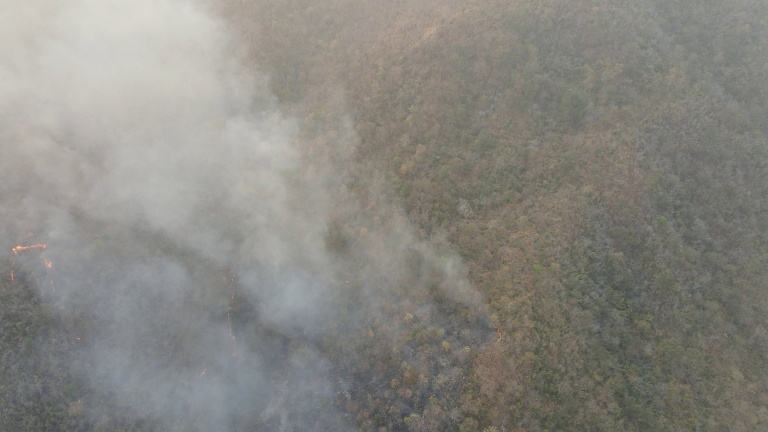fire: (198, 267, 244, 379), (464, 303, 506, 389), (5, 241, 59, 288)
smoke: (1, 1, 485, 432)
